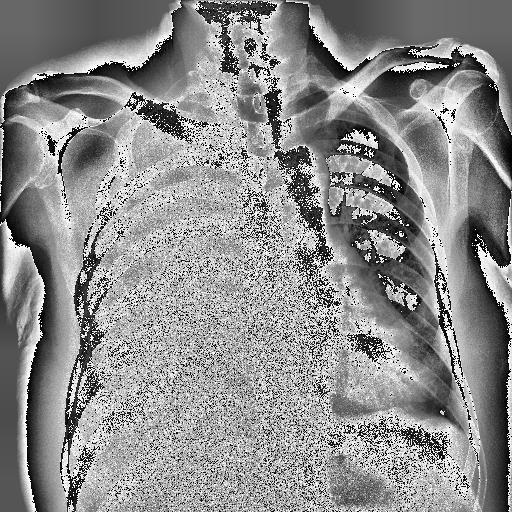0- Aortic enlargement: (278, 144, 332, 206), (286, 146, 329, 195)
1- Atelectasis: (65, 85, 230, 447)
10- Pleural effusion: (58, 98, 263, 478), (78, 94, 254, 436), (65, 85, 230, 447)
3- Cardiomegaly: (232, 328, 428, 422)
9- Other lesion: (65, 85, 230, 447)
